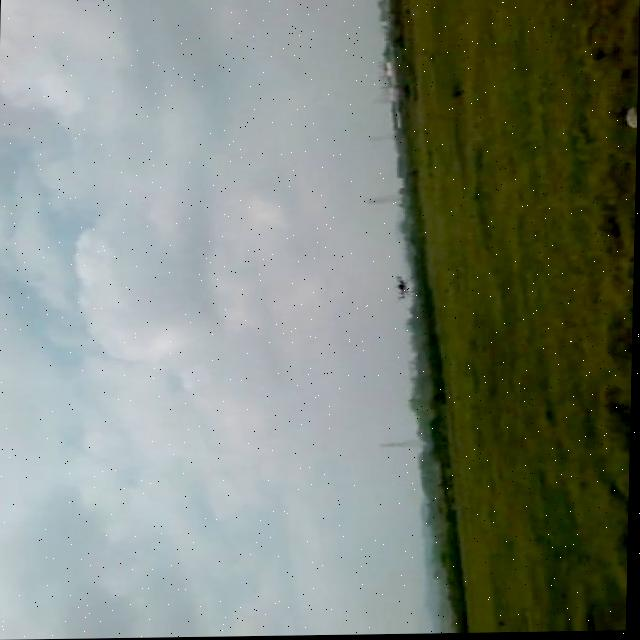drone: (388, 276, 414, 304)
